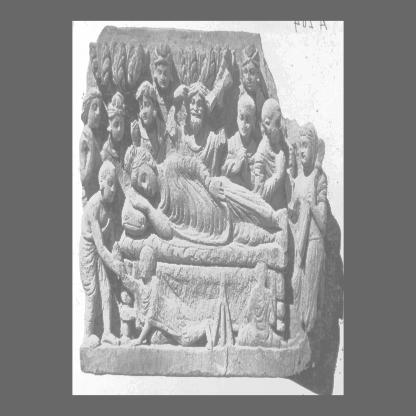buddha-sleeping: (119, 145, 288, 348)
